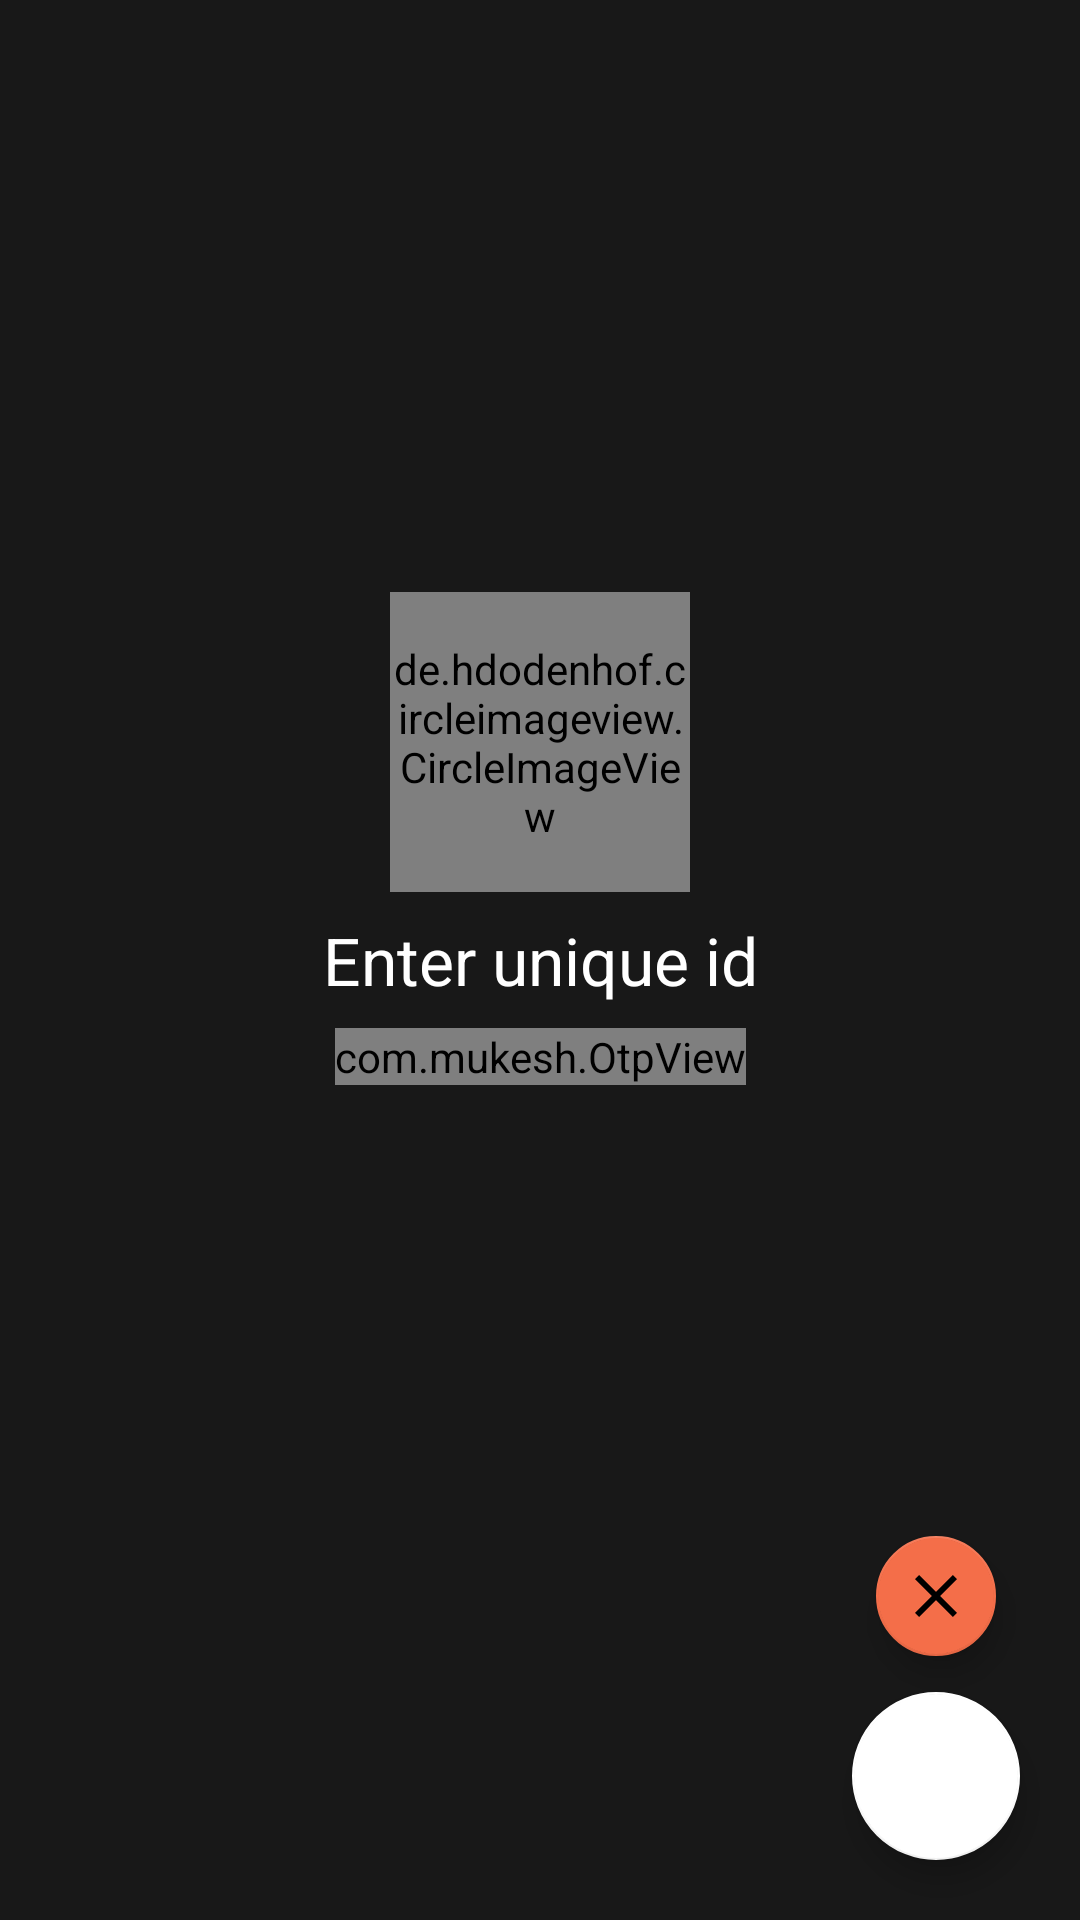

Locate icon controls on the screen. Image size 1080 × 1920, boxes as (x1, y1, x2, y2).
close: (876, 1536, 996, 1656)
